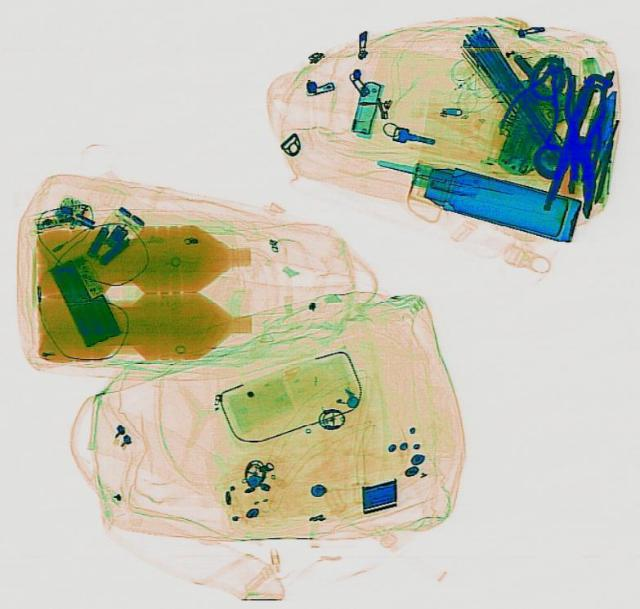Pliers: (496, 44, 582, 145), (549, 66, 611, 196)
